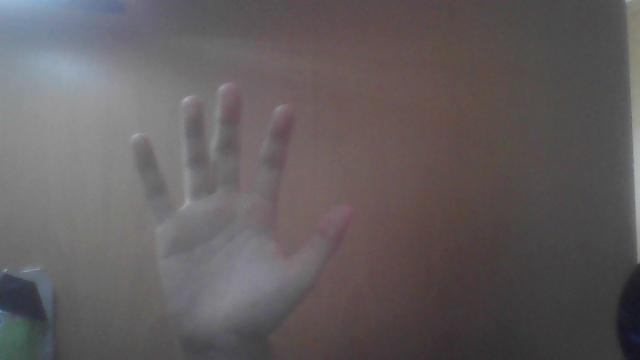Stop: (128, 82, 348, 360)
